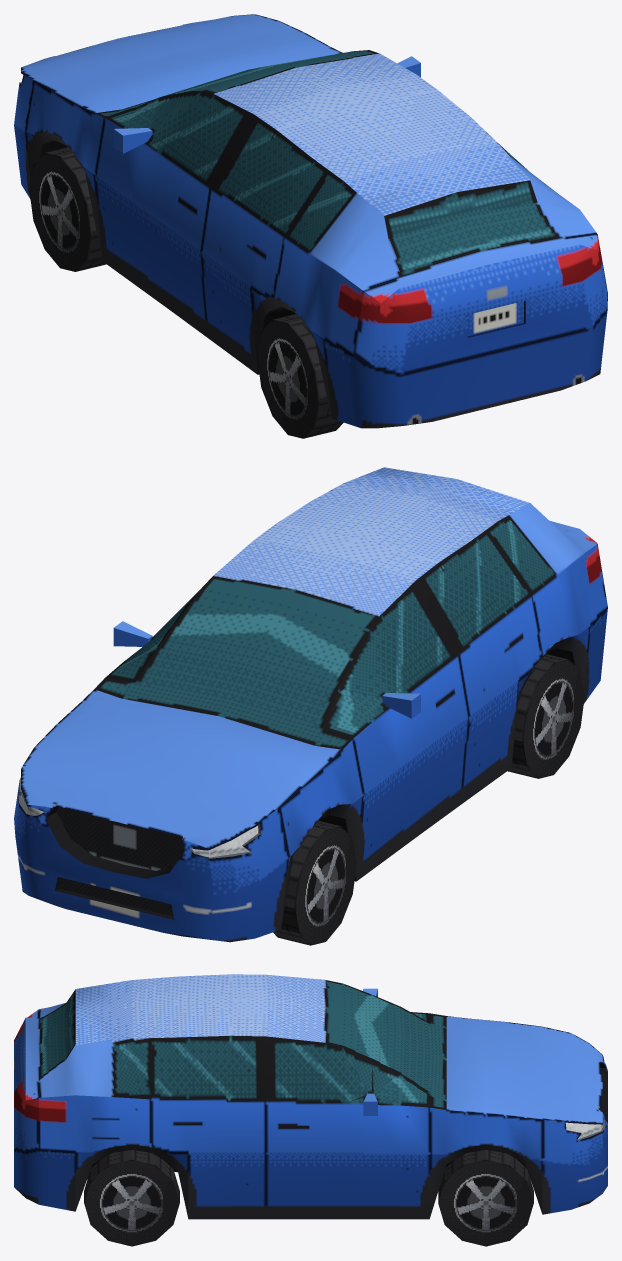
3 views of the same model, one above another, from view 1: azimuth 30°, elevation 25°; view 2: azimuth 150°, elevation 25°; view 3: azimuth 270°, elevation 25° (orthographic). The views are drawn at different scales.
Parts seen in each view (by area): view 1: body, tailgate, door_FL, door_RL, bumper_R, hood, wheel_RL, wheel_FL, fender_FL, bumper_F, mirror_L; view 2: body, hood, bumper_F, door_FL, door_RL, wheel_FL, wheel_RL, fender_FL, door_FR, bumper_R, headlight_L, mirror_L (+1 smaller); view 3: body, door_FR, door_RR, hood, wheel_RR, wheel_FR, fender_FR, bumper_F, tailgate, bumper_R, headlight_R.
Boxes of the visible parts, x1,y1,x2,y2 form: body: [40, 50, 597, 416]; tailgate: [353, 180, 607, 374]; door_FL: [95, 91, 253, 337]; door_RL: [201, 114, 329, 374]; bumper_R: [324, 310, 607, 428]; hood: [21, 14, 342, 113]; wheel_RL: [257, 314, 343, 438]; wheel_FL: [29, 147, 106, 271]; fender_FL: [25, 81, 104, 259]; bumper_F: [14, 68, 33, 199]; mirror_L: [113, 128, 152, 153]; body: [94, 467, 607, 881]; hood: [21, 689, 342, 859]; bumper_F: [14, 769, 288, 942]; door_FL: [323, 580, 468, 881]; door_RL: [416, 529, 542, 804]; wheel_FL: [273, 821, 356, 945]; wheel_RL: [507, 654, 584, 778]; fender_FL: [279, 739, 363, 926]; door_FR: [105, 590, 199, 682]; bumper_R: [584, 608, 607, 703]; headlight_L: [189, 824, 260, 858]; mirror_L: [382, 693, 420, 718]; body: [39, 974, 526, 1217]; door_FR: [265, 1036, 429, 1219]; door_RR: [151, 1035, 265, 1219]; hood: [446, 1016, 607, 1126]; wheel_RR: [84, 1150, 179, 1246]; wheel_FR: [438, 1150, 533, 1246]; fender_FR: [429, 1107, 542, 1218]; bumper_F: [542, 1062, 607, 1214]; tailgate: [14, 989, 75, 1152]; bumper_R: [14, 1149, 75, 1211]; headlight_R: [565, 1119, 605, 1140].
Size of the model in its own units: 204 by 453 by 165.
2 materials, 2 textured.
